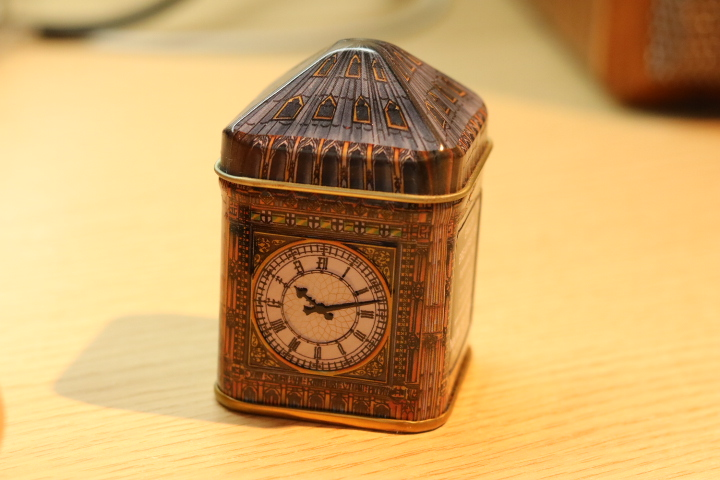Big Ben: (204, 30, 513, 446)
